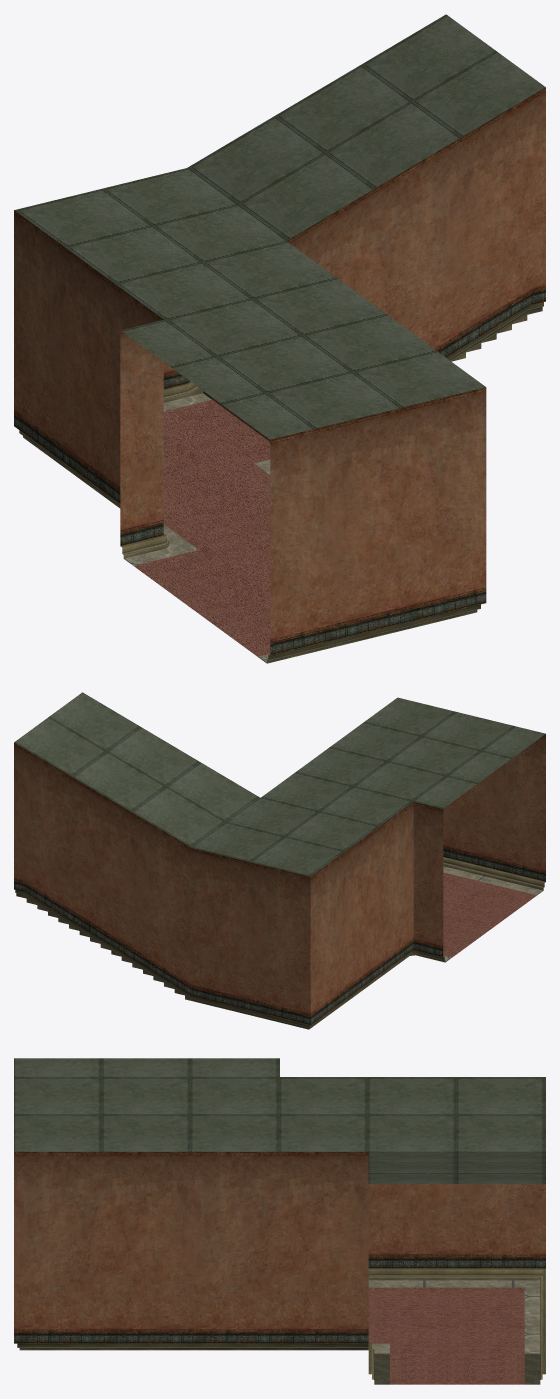
File: mun_all_guild_theater_s01_r5_hallway4_mesh_r5.fbx
3 renders of one model, top to bottom at view 1: azimuth 30°, elevation 25°; view 2: azimuth 150°, elevation 25°; view 3: azimuth 270°, elevation 25°, orthographic. The views are drawn at different scales.
Parts seen in each view (by area): view 1: mesh_node; view 2: mesh_node; view 3: mesh_node.
Part boxes in pixels (x1,y1,x2,y2): mesh_node: (14, 14, 545, 663); mesh_node: (14, 692, 545, 1029); mesh_node: (14, 1058, 545, 1384).
Bounding box in the file's own units: 11 × 7 × 12.
